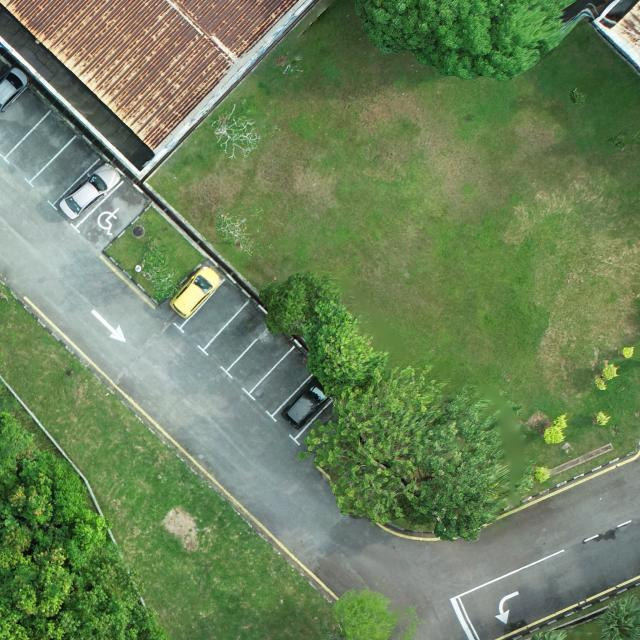tree: (304, 362, 513, 540), (0, 450, 117, 640), (351, 0, 576, 82), (302, 313, 390, 397), (258, 270, 342, 337), (140, 236, 182, 302)
